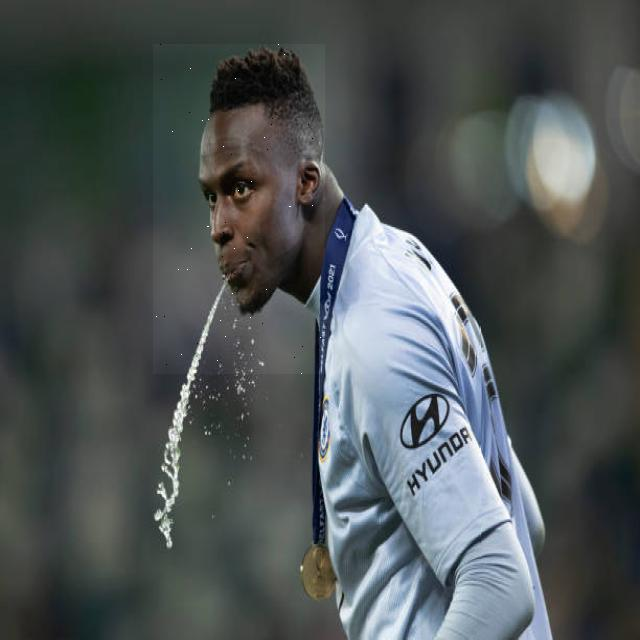Spitting: (153, 44, 325, 374)
